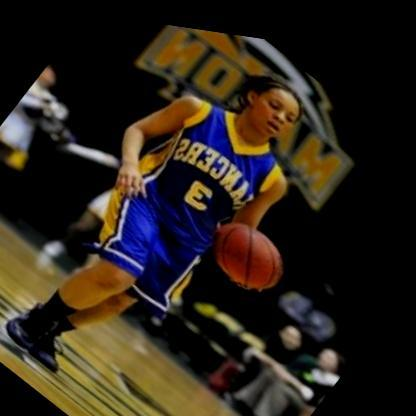basketball: (202, 199, 308, 299)
